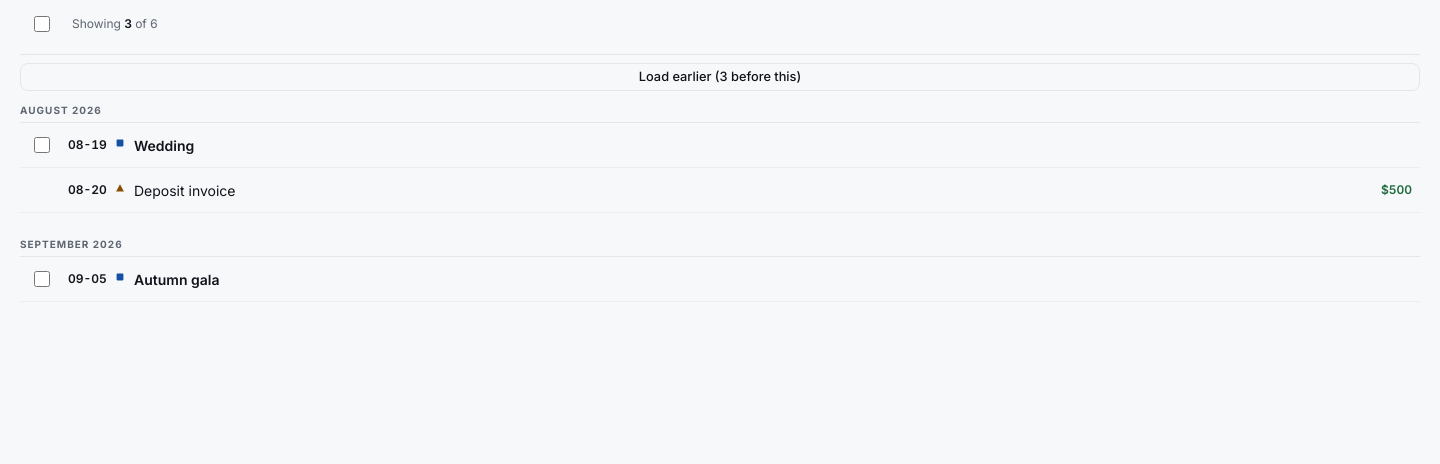
Test: AgendaView — bulk reschedule › rolls back only the rows the server could not move
Click the checkbox named "select all 2 reschedulable rows in view" next to "Showing". click: [42, 24]
box: left=34, top=16, right=50, bottom=32
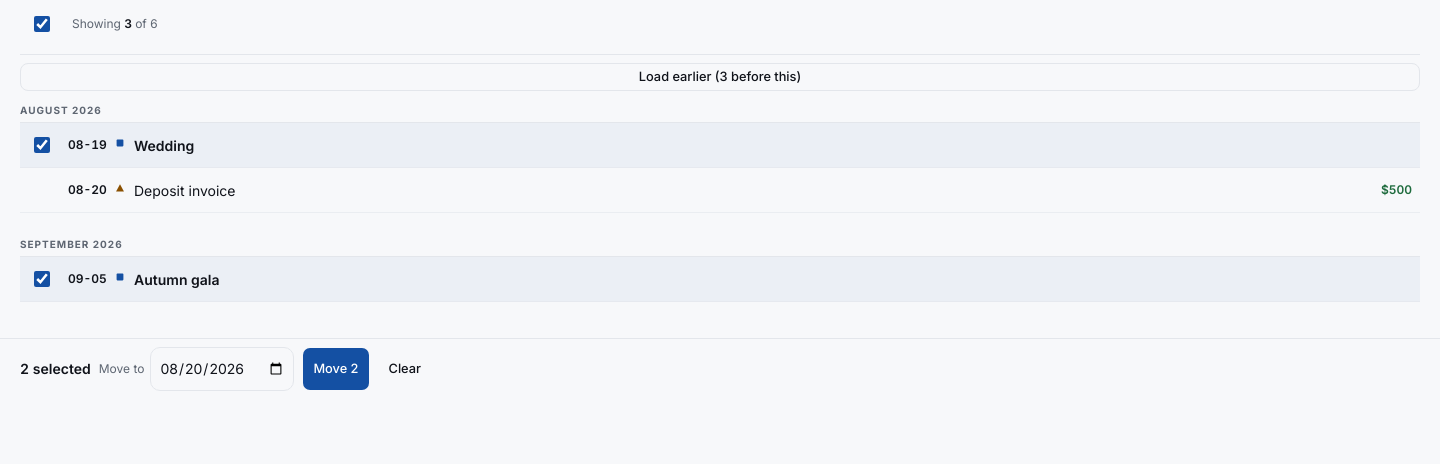
Type "2026-10-10" into the date field named "move the selected rows to this day". click: [222, 369]
box: left=150, top=347, right=294, bottom=391
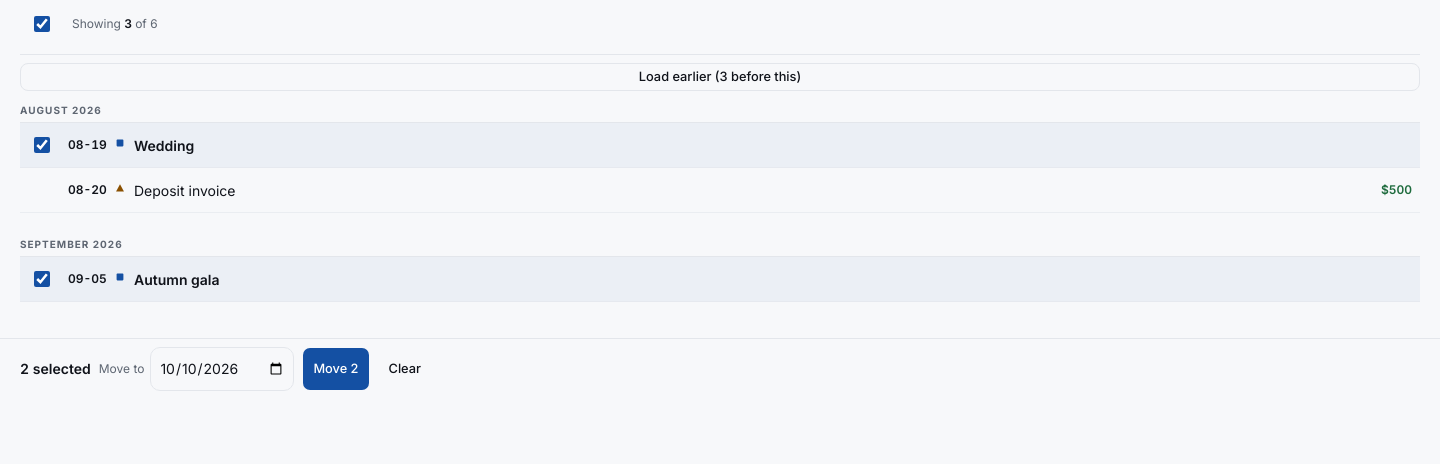
Click the button "Move 2". click: [336, 369]
box: left=302, top=347, right=370, bottom=391
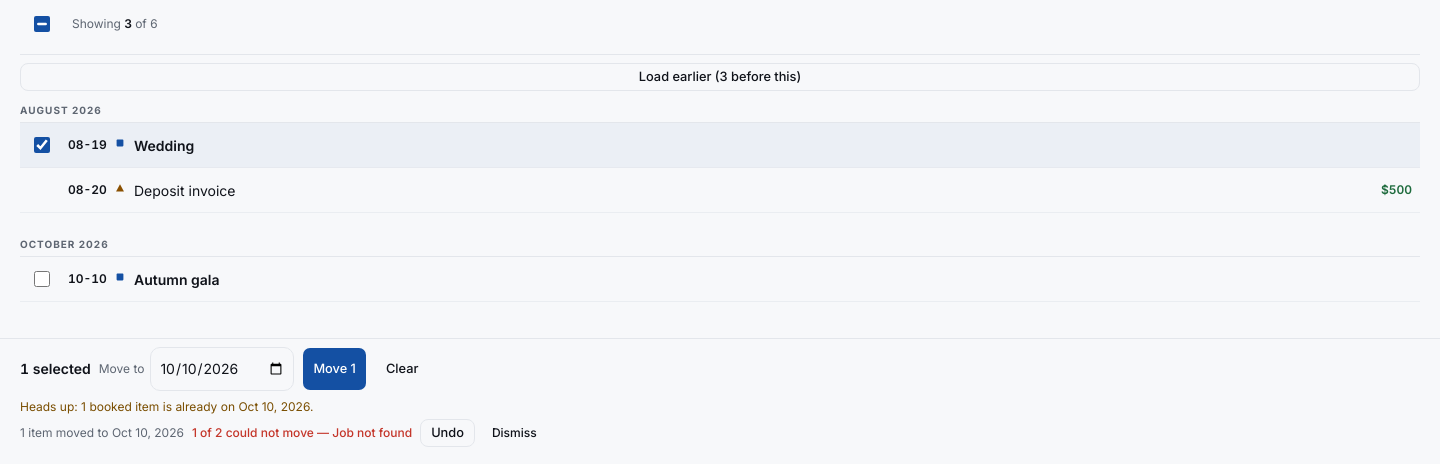
Expected: the text "1 of 2 could not move — Job not found" is shown, left=192, top=425, right=412, bottom=441
Expected: the heading "October 2026" is shown, left=20, top=233, right=1420, bottom=257
Expected: the text "1 selected" is shown, left=20, top=359, right=91, bottom=379
